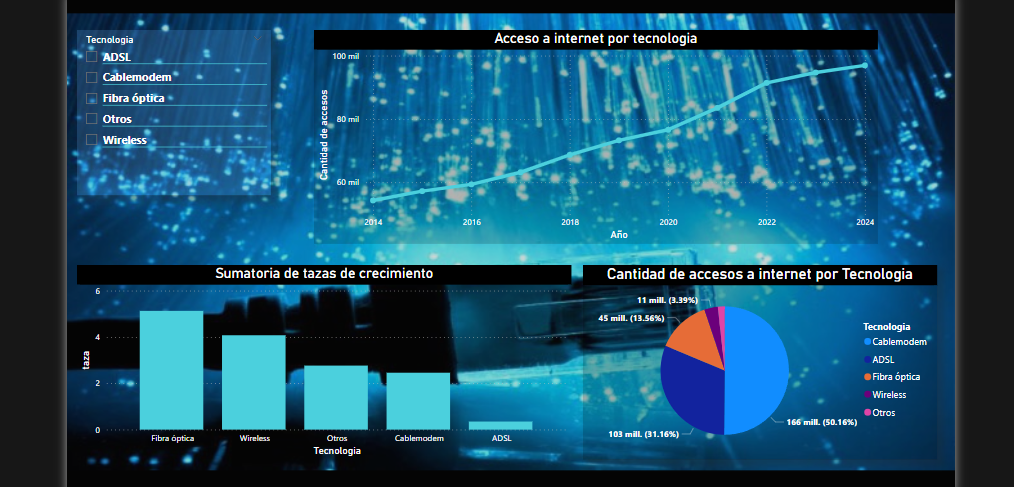

The page's visual inventory and layout, read from the dashboard file:
{"tool":"powerbi","page":{"name":"Tecnologias","canvas":[1280,720],"ordinal":1},"visuals":[{"type":"lineChart","title":"Acceso a internet por tecnologia","fields":{"Category":["Accesos Por Tecnología.Año"],"Y":["Avg(Accesos Por Tecnología.Valor)"]},"box":[355,51.9,811.7,308.1],"z":0},{"type":"slicer","fields":{"Values":["Accesos Por Tecnología.Tecnologia"]},"box":[15,51.9,279.2,238.3],"z":1000},{"type":"columnChart","title":"Sumatoria de tazas de crecimiento","fields":{"Category":["Accesos Por Tecnología.Tecnologia"],"Y":["Accesos Por Tecnología.taza"]},"box":[15,389.9,712,280.2],"z":2000},{"type":"pieChart","title":"Cantidad de accesos a internet  por Tecnologia","fields":{"Y":["Sum(Accesos Por Tecnología.Valor)"],"Category":["Accesos Por Tecnología.Tecnologia"]},"box":[742.9,389.9,509.6,280.2],"z":3000}]}

Visuals, with their boxes on the page's 1280x720 design canvas (x1, y1, x2, y2). These are canvas units, not pixel positions in the 1014x487 screenshot, which may show the page scaled, cropped or inside an application window:
"Acceso a internet por tecnologia" lineChart: l=355, t=52, r=1167, b=360
slicer - Accesos Por Tecnología.Tecnologia: l=15, t=52, r=294, b=290
"Sumatoria de tazas de crecimiento" columnChart: l=15, t=390, r=727, b=670
"Cantidad de accesos a internet  por Tecnologia" pieChart: l=743, t=390, r=1252, b=670
